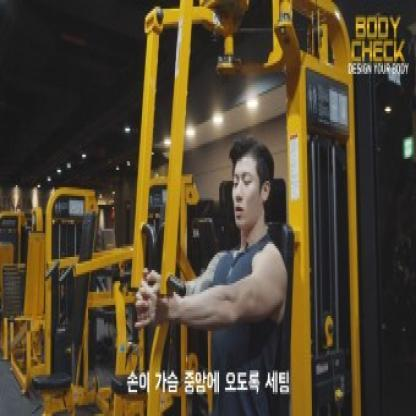chest fly machine: (102, 1, 416, 416)
